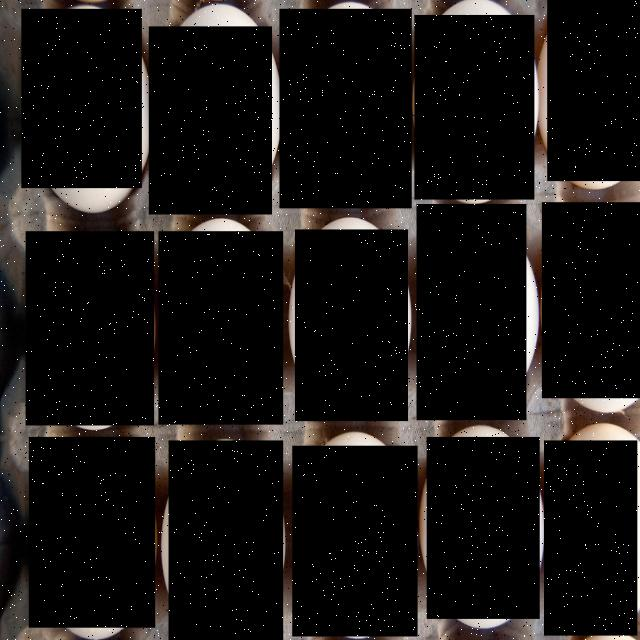Egg: (280, 9, 412, 208), (26, 231, 155, 426), (29, 437, 156, 628), (159, 231, 283, 425), (293, 446, 418, 637), (417, 204, 527, 420), (149, 27, 272, 215), (169, 440, 283, 640), (414, 15, 534, 200), (295, 229, 408, 422), (21, 9, 142, 188), (427, 437, 540, 619), (542, 202, 640, 398), (544, 441, 637, 637), (547, 0, 640, 181)
